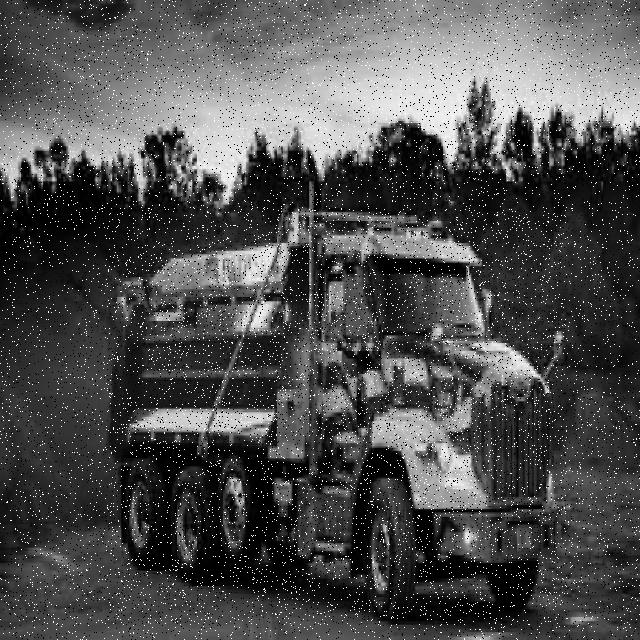Box Truck: (107, 208, 567, 625)
